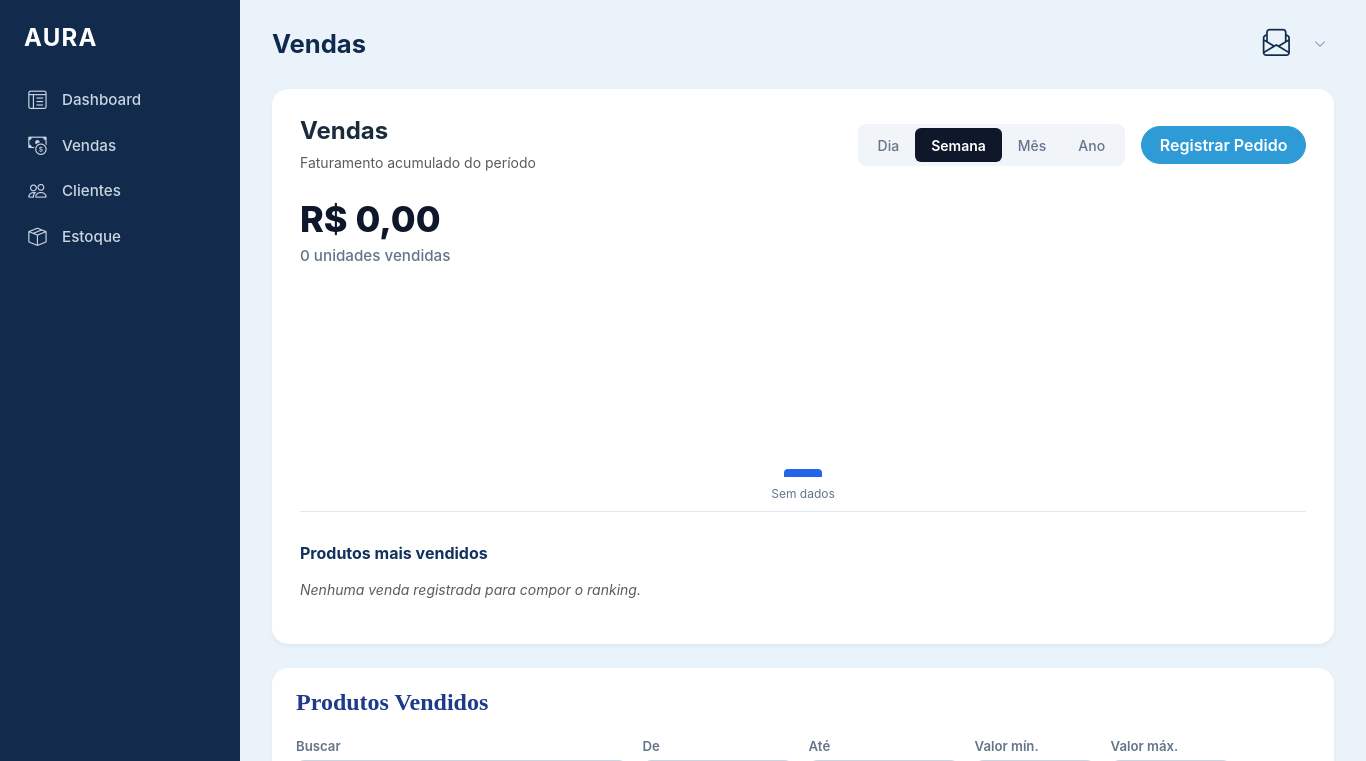
it: Page Vendas › deve abrir o modal de cadastro ao clicar no botão Registrar Pedido
Step 1. Click the button "Registrar Pedido" → point(1224, 145), box [1141, 126, 1306, 164]
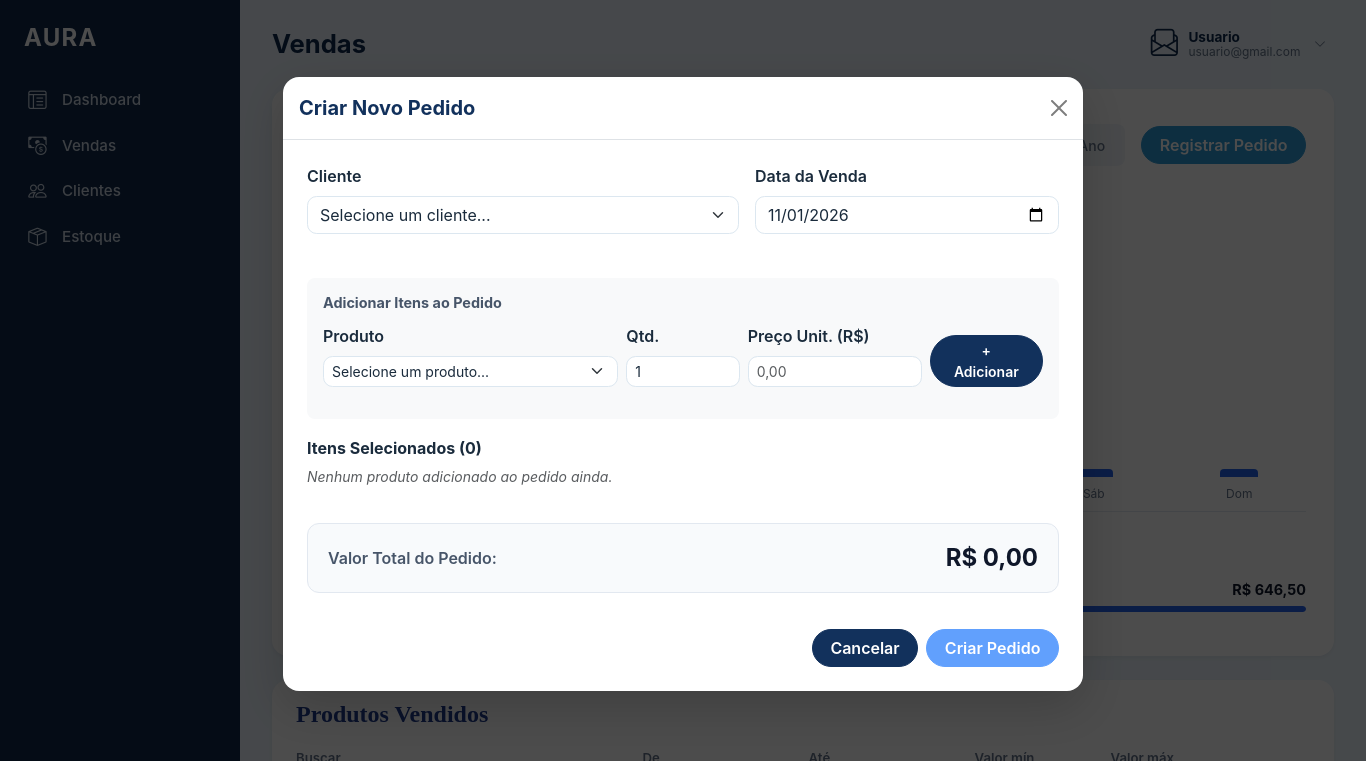
Expected: the heading "Criar Novo Pedido" is shown, [299, 93, 475, 123]
